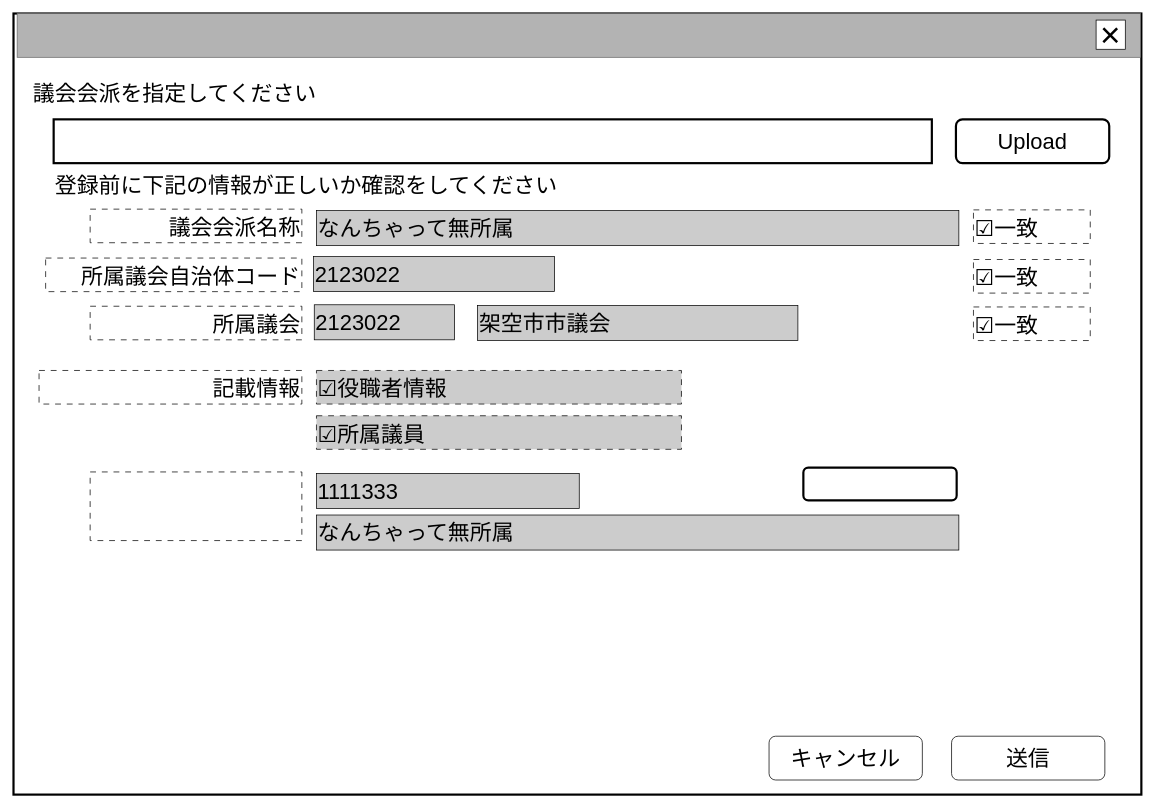
Image size: 1155x808. Some labels were removed from this diagram. The centre of each missing label's shape, as x and y in pixels:
検索: pixel 879 483
結びつける登録済の議会会派: pixel 195 506
